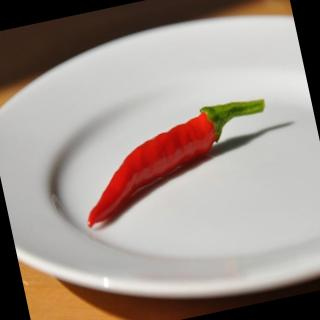Cabai Merah: (68, 94, 284, 229)
